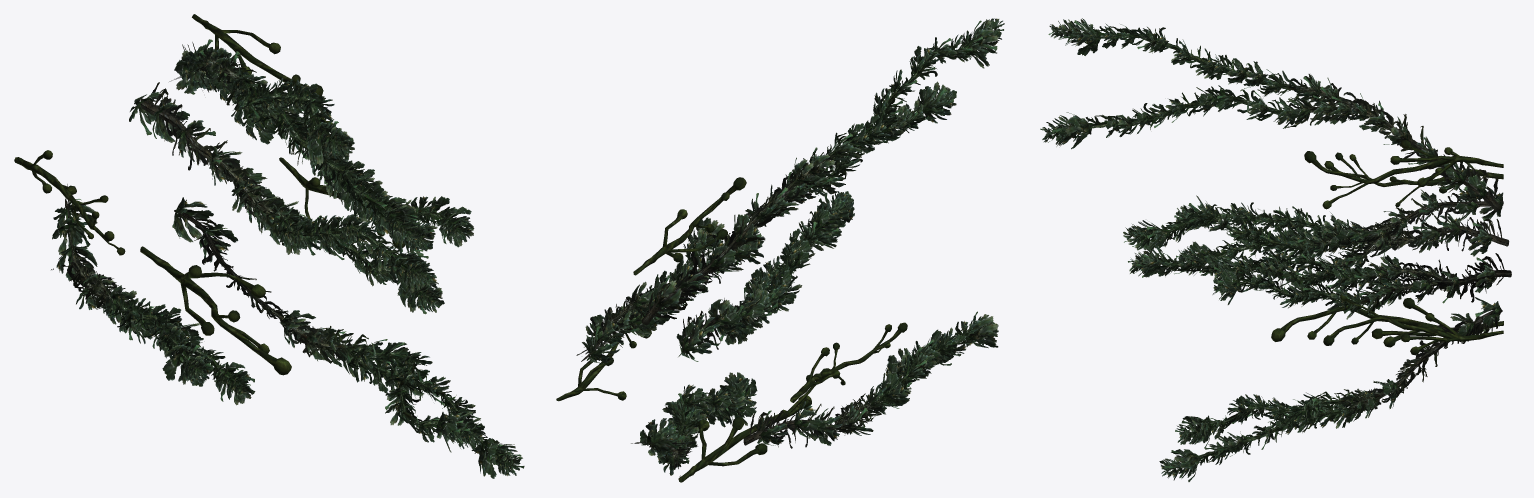
The model's file is PondWeed_Med.fbx.
The picture shows the model from 3 angles, left to right: view 1: azimuth 30°, elevation 25°; view 2: azimuth 150°, elevation 25°; view 3: azimuth 270°, elevation 25°; orthographic projection. The views are drawn at different scales.
Visible parts, largest first — view 1: LOD0; view 2: LOD0; view 3: LOD0.
Part boxes in pixels (x1,y1,x2,y2): LOD0: [14, 14, 524, 478]; LOD0: [556, 18, 1004, 482]; LOD0: [1040, 18, 1511, 481].
Size of the model in its own units: 1.44 by 1.85 by 2.12.
